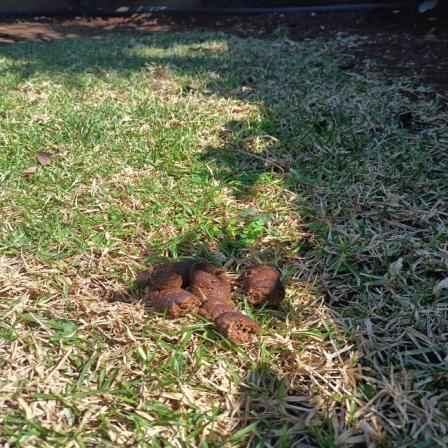dog-poop: (139, 251, 296, 346)
